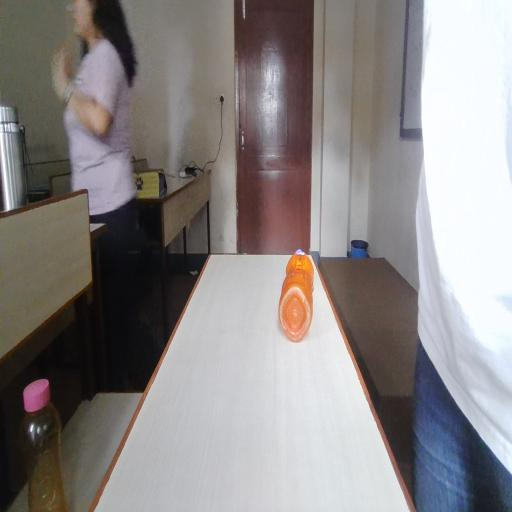Bottle: (16, 344, 81, 510), (273, 229, 327, 365)
